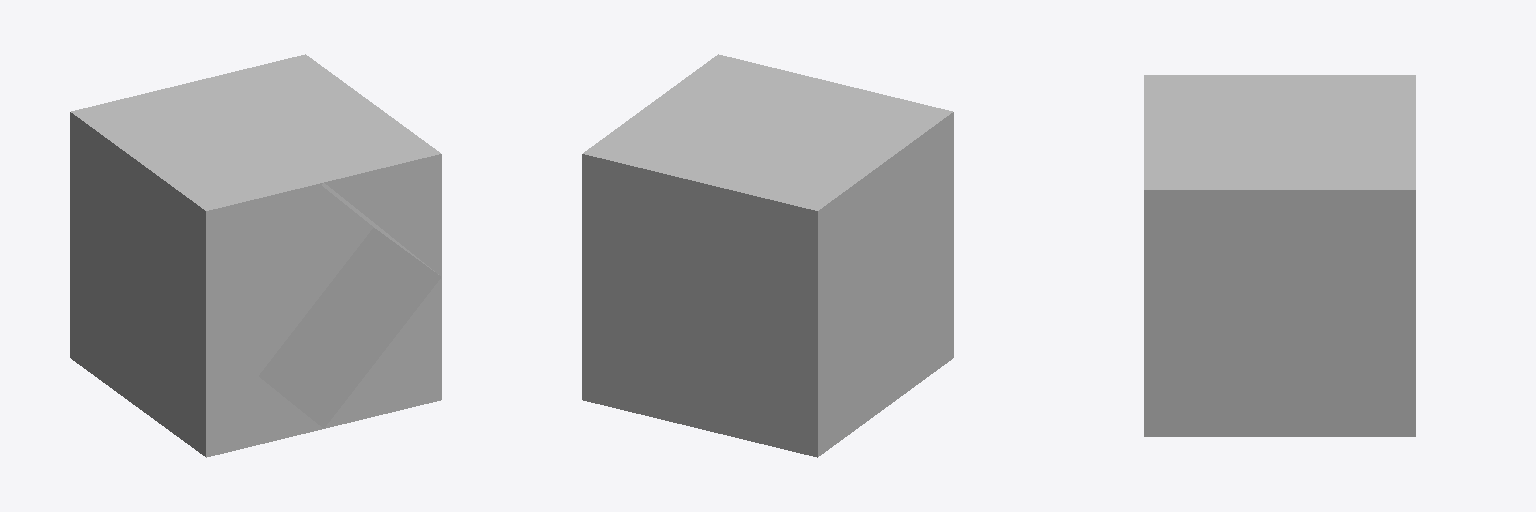
The model's file is UnionDifference1.obj.
3 views of the same model, side by side, from view 1: azimuth 30°, elevation 25°; view 2: azimuth 150°, elevation 25°; view 3: azimuth 270°, elevation 25° (orthographic).
Size of the model in its own units: 1 by 1 by 1.